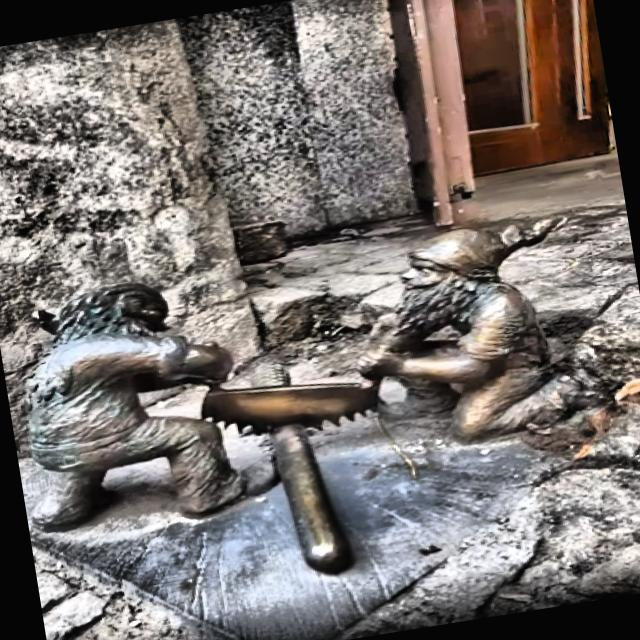Wyrostek i Zadymek: (29, 218, 576, 572)
